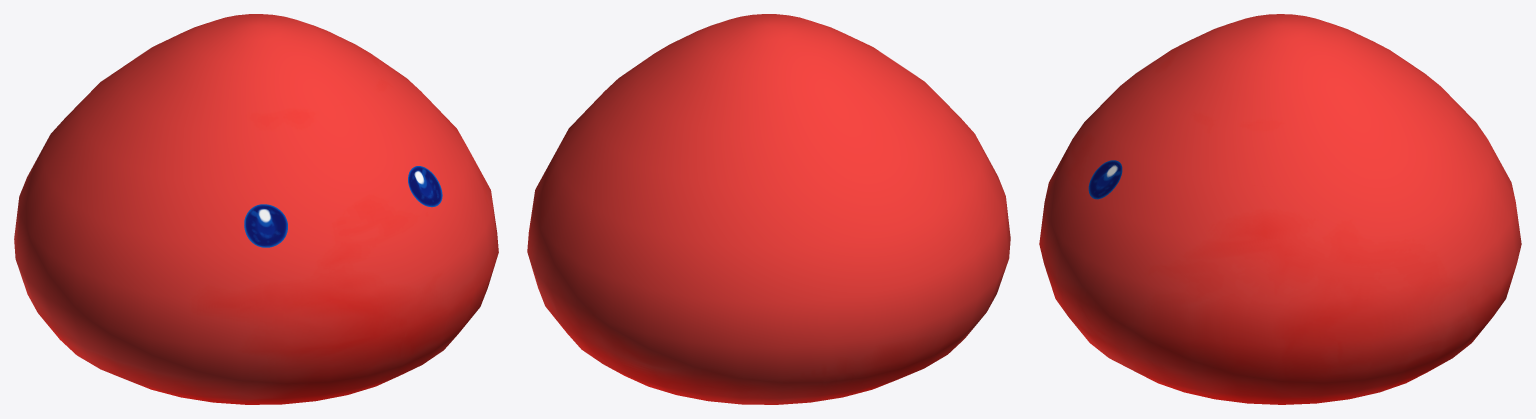
The model's file is slime_red.gltf.
3 renders of one model, left to right at view 1: azimuth 30°, elevation 25°; view 2: azimuth 150°, elevation 25°; view 3: azimuth 270°, elevation 25°, orthographic.
Parts seen in each view (by area): view 1: Slime_Slime_0; view 2: Slime_Slime_0; view 3: Slime_Slime_0.
Part boxes in pixels (x1=…): Slime_Slime_0: x1=14, y1=14, x2=498, y2=404; Slime_Slime_0: x1=527, y1=14, x2=1010, y2=404; Slime_Slime_0: x1=1039, y1=14, x2=1521, y2=404.
Bounding box in the file's own units: 1.03 × 0.7421 × 1.03.
1 material, 1 textured.
